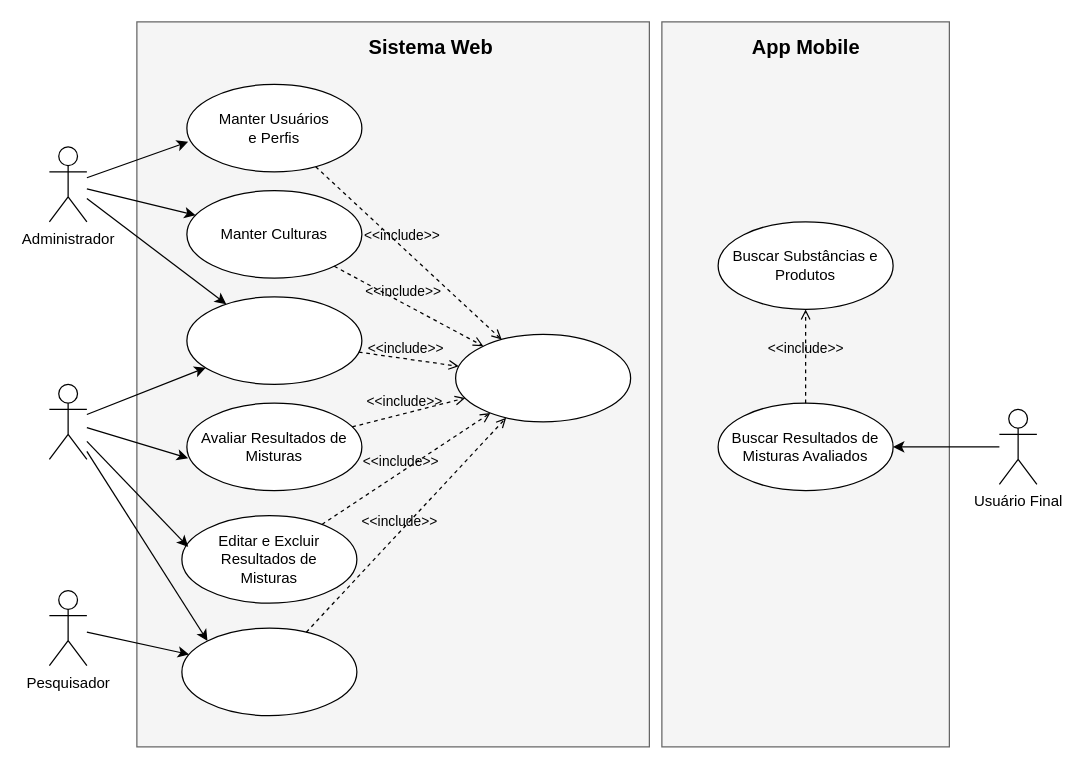
This 1084x769 diagram has some shape labels left out. Here are the shapes that lost their labels. From the top down, the centre of each, then its label:
At point 274,340: "Manter Substâncias e Produtos".
At point 542,377: "Efetuar Login".
At point 67,421: "Avaliador".
At point 269,671: "Cadastrar Resultados de Misturas".
